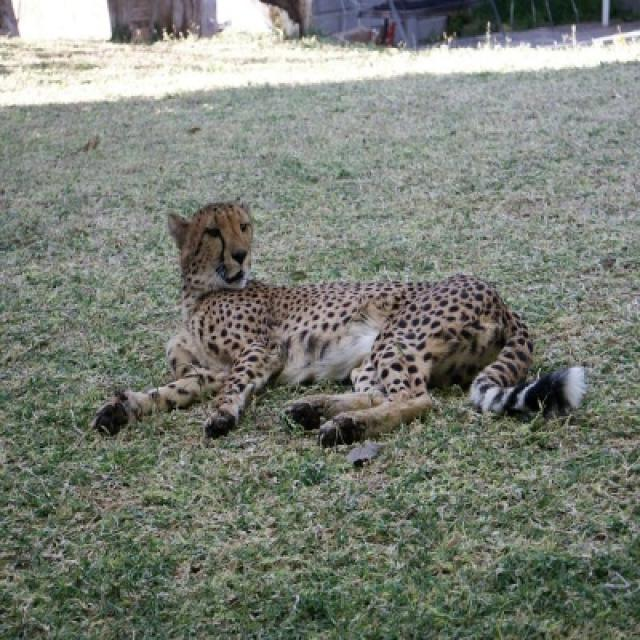Cheetah: (93, 203, 584, 445)
